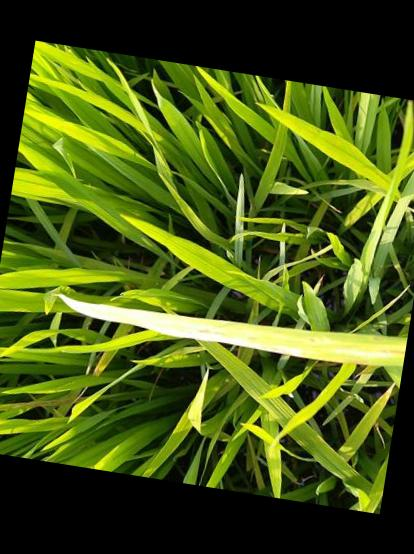Leaf Streak: (59, 295, 312, 355)
